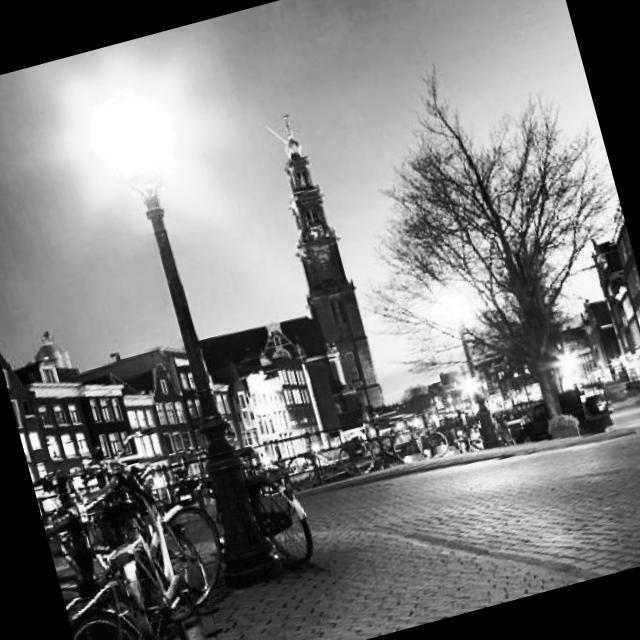Bicycle: (24, 407, 235, 609), (197, 412, 356, 593), (48, 502, 238, 640)
